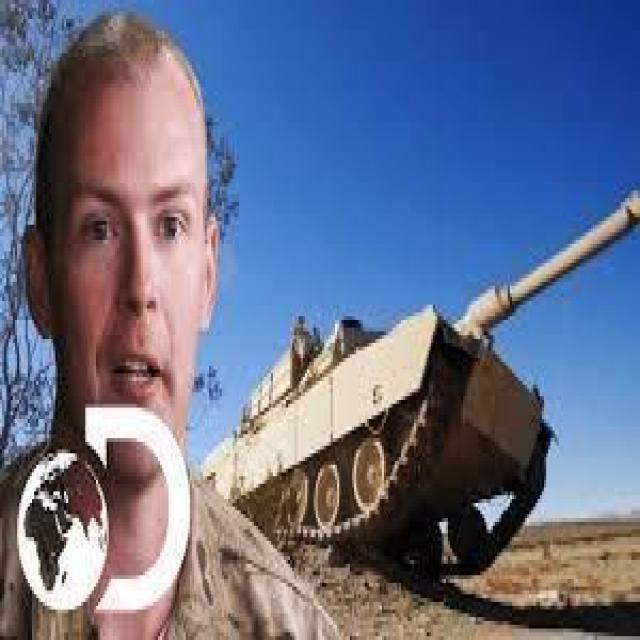Tanks: (290, 132, 627, 550)
